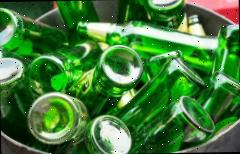glass: (114, 53, 207, 140), (74, 45, 146, 119), (128, 95, 216, 154), (27, 35, 105, 96), (0, 5, 81, 61), (26, 89, 90, 144), (46, 115, 133, 154)
